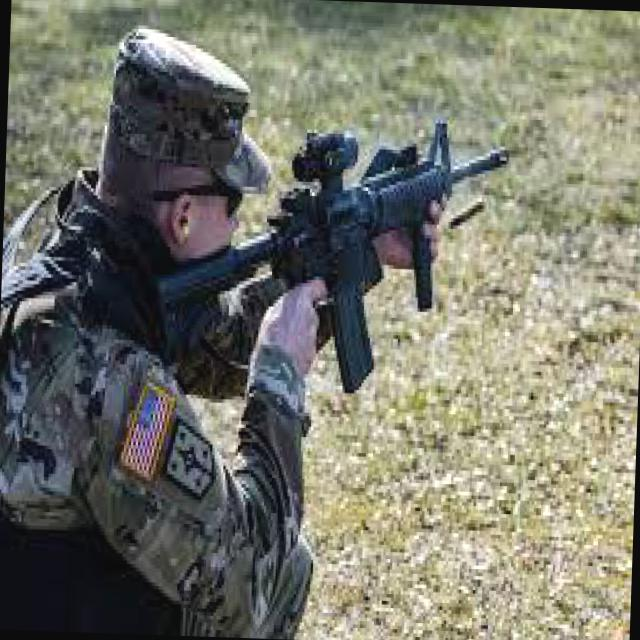long weapon: (145, 94, 526, 396)
